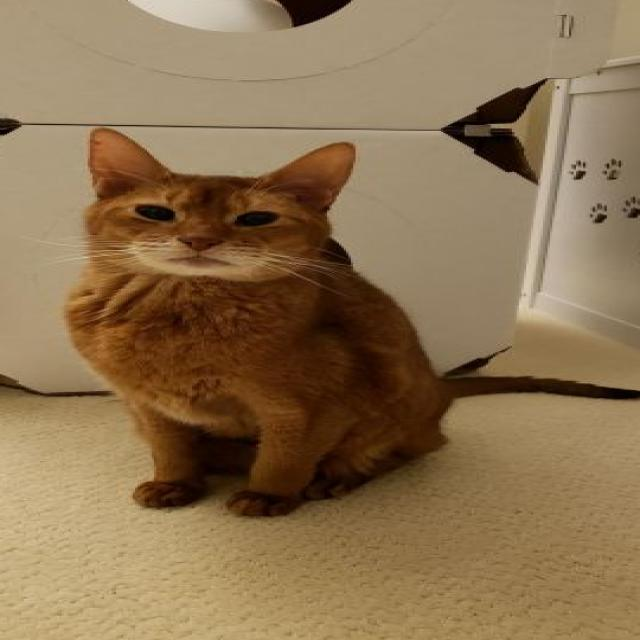Abyssinian: (52, 118, 640, 530)
